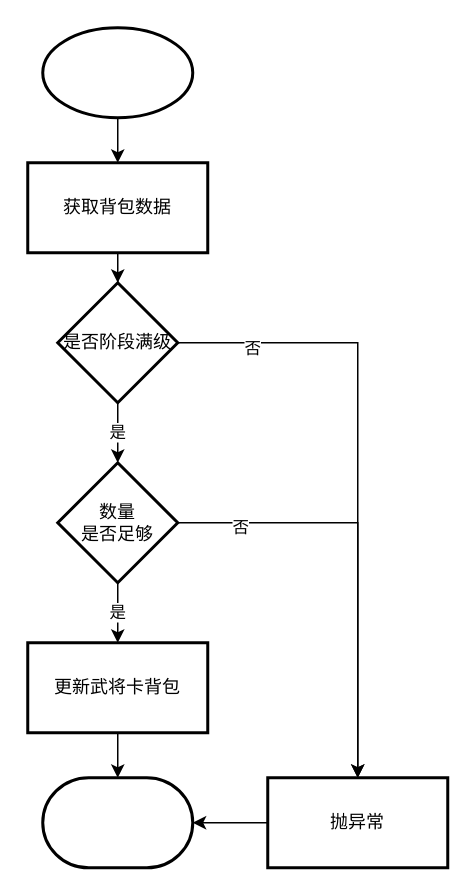
This 474x894 diagram has some shape labels left out. Each missing label, with the centre of its shape:
"开始" goes at pixel 117 72.
"结束" goes at pixel 117 822.
